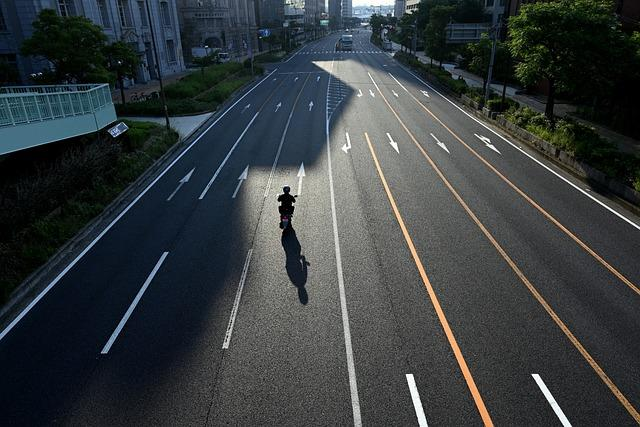Non_Gorille: (77, 40, 615, 394)
